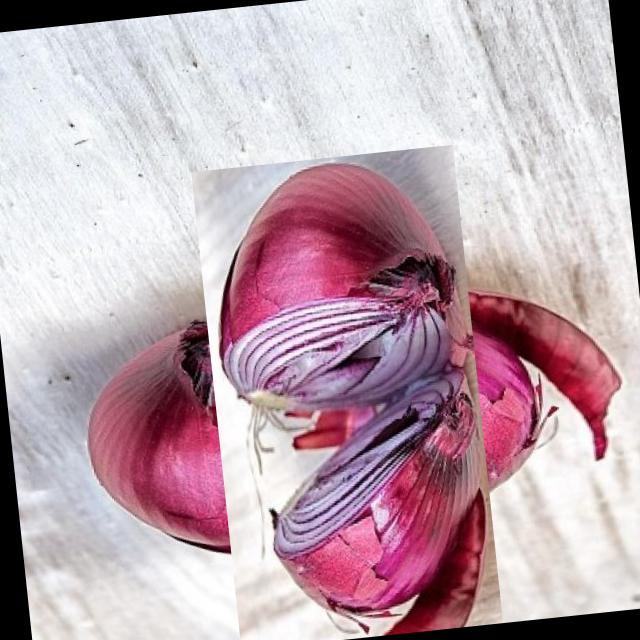Onion: (129, 205, 570, 640)
